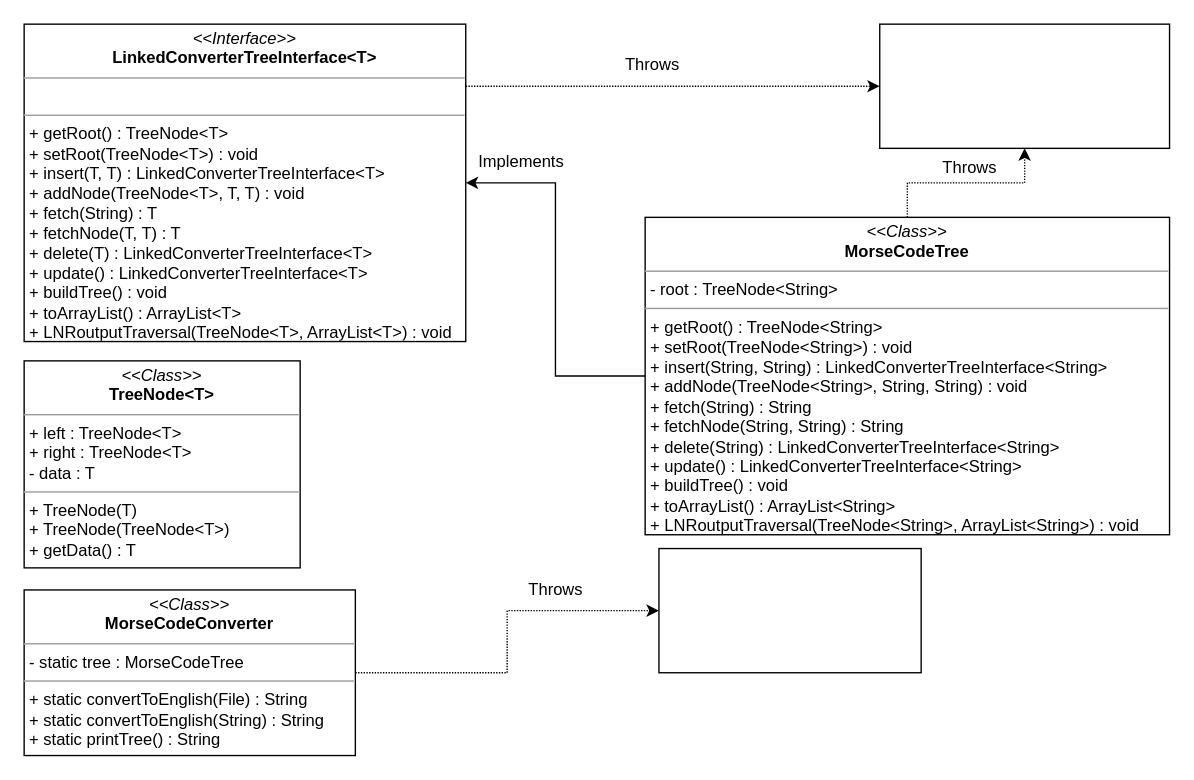
The diagram is 1194 pixels wide and 780 high, and some of its shapes have lost their labels. Here are the shapes that lost their labels. From the top down, the box of each, then its label:
(878, 23, 1170, 148): <<Class>> UnsupportedOperationException
(658, 547, 921, 673): <<Class>> java.io.FileNotFoundException
